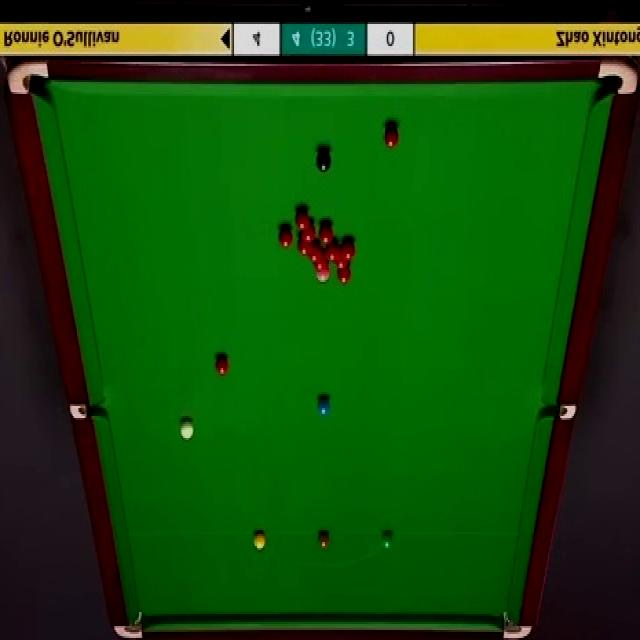pocket: (595, 55, 639, 100), (7, 58, 51, 94), (109, 606, 145, 640), (503, 612, 535, 640), (537, 405, 573, 420), (66, 405, 100, 420)
